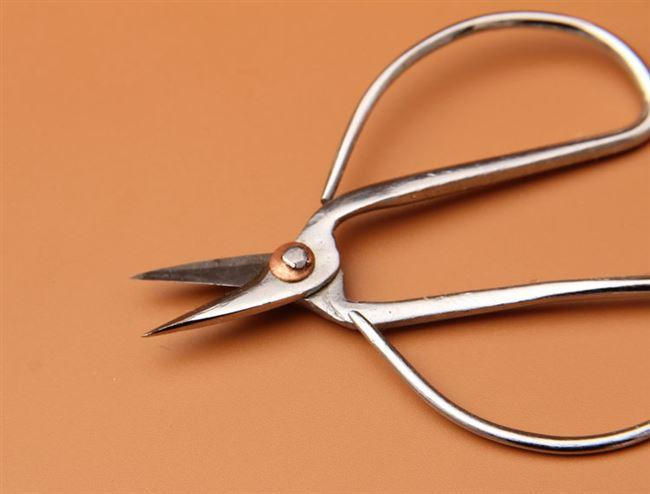scissor: (131, 7, 650, 458)
